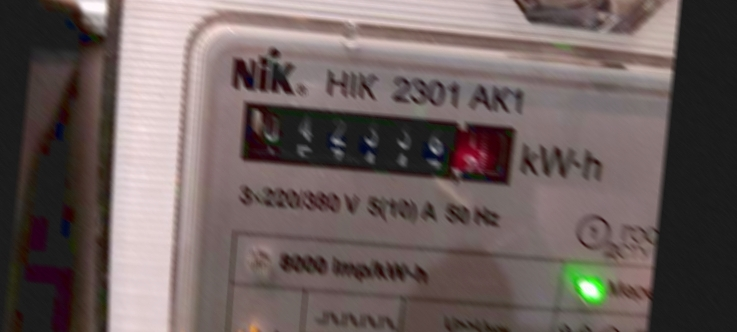0: (261, 113, 280, 142)
1: (464, 127, 479, 150)
2: (329, 115, 348, 146), (460, 152, 478, 172)
3: (393, 119, 412, 150), (361, 118, 379, 147)
4: (296, 111, 315, 142)
6: (427, 124, 447, 156)
screen: (226, 87, 529, 196)
